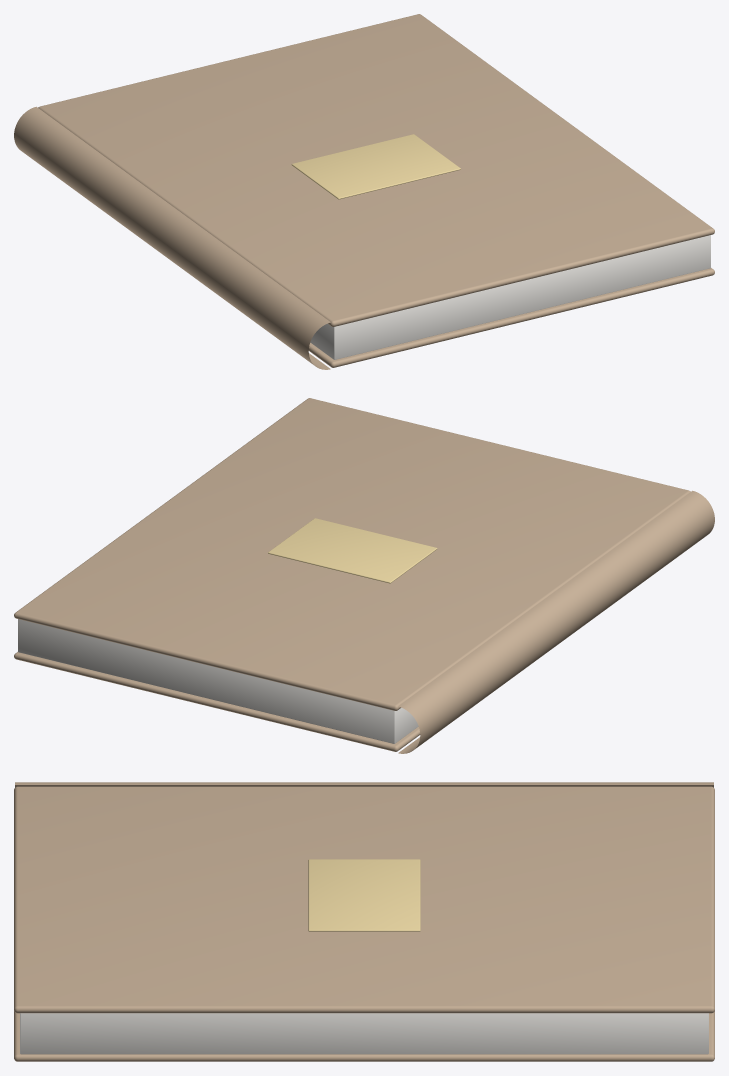
Rendered from plate--portrait.glb.
3 views of the same model, one above another, from view 1: azimuth 30°, elevation 25°; view 2: azimuth 150°, elevation 25°; view 3: azimuth 270°, elevation 25° (orthographic). The views are drawn at different scales.
Visible parts, largest first — view 1: CoverFront, Spine, Pages, Plate, CoverBack; view 2: CoverFront, Spine, Pages, Plate, CoverBack; view 3: CoverFront, Pages, Plate, CoverBack, Spine.
Boxes of the visible parts, x1,y1,x2,y2 form: CoverFront: (38, 14, 714, 326); Spine: (14, 106, 330, 369); Pages: (310, 235, 710, 359); Plate: (291, 134, 460, 199); CoverBack: (308, 268, 714, 367); CoverFront: (14, 398, 690, 710); Spine: (398, 490, 714, 753); Pages: (18, 619, 418, 743); Plate: (268, 518, 437, 583); CoverBack: (14, 652, 420, 751); CoverFront: (14, 786, 714, 1013); Pages: (20, 1013, 708, 1054); Plate: (308, 859, 420, 931); CoverBack: (14, 1011, 714, 1061); Spine: (15, 782, 713, 787).
Bounding box in the file's own units: 0.3179 × 0.0361 × 0.4.
